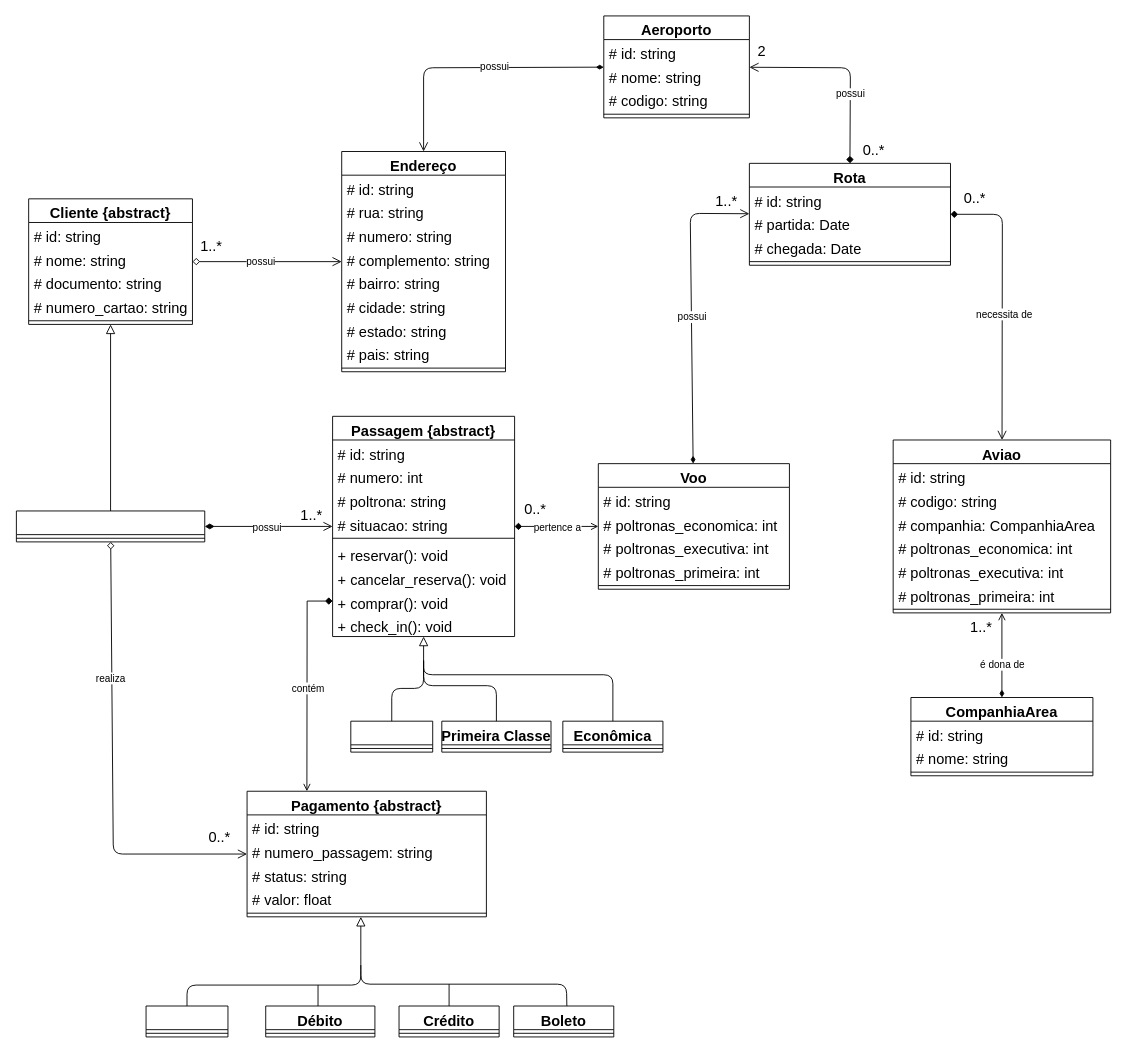
Image size: 1127x1053. Some labels were removed from this diagram. Each missing label, with the centre of its shape:
Executiva: the point at 391,736
Passageiro: the point at 110,526
Pix: the point at 186,1021
